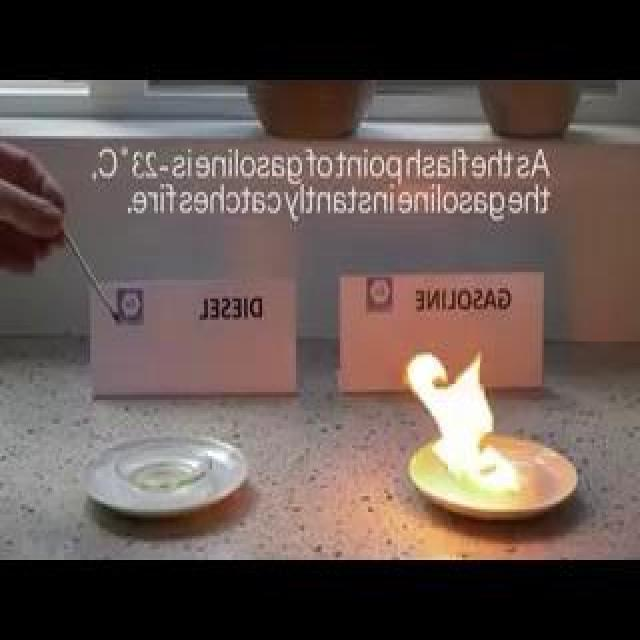Fire: (433, 304, 531, 499)
